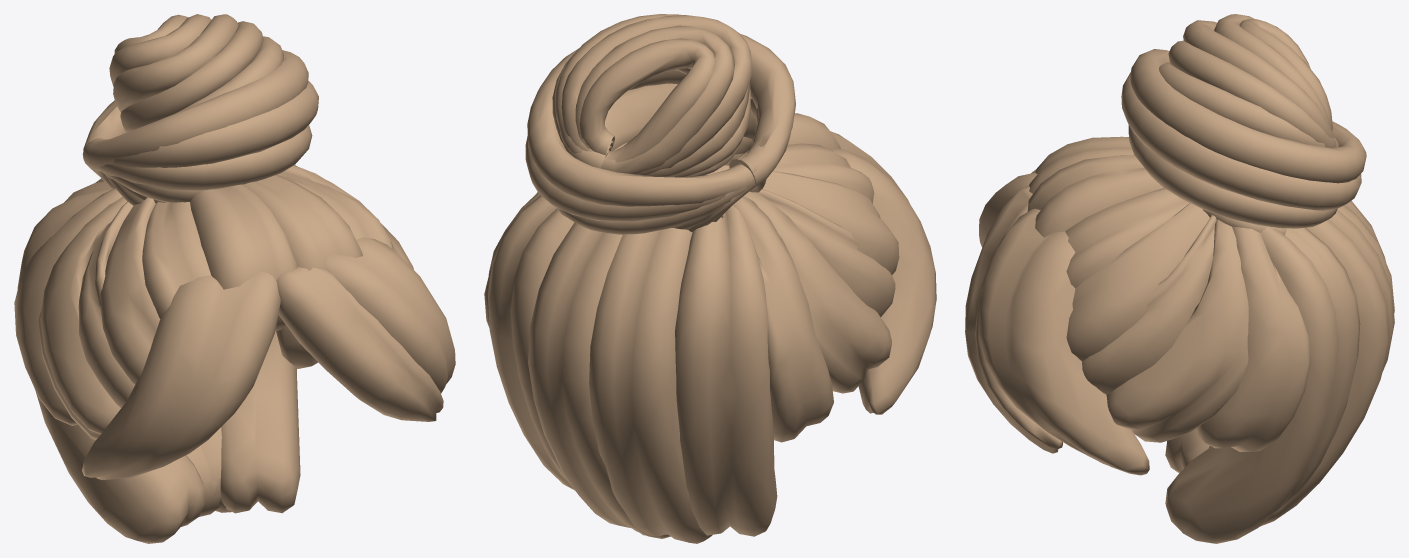
File: hair-8-69de2301.glb
The picture shows the model from 3 angles, left to right: view 1: azimuth 30°, elevation 25°; view 2: azimuth 150°, elevation 25°; view 3: azimuth 270°, elevation 25°; orthographic projection. The views are drawn at different scales.
Visible parts, largest first — view 1: Geo_White_Older_Female_Hair_8.001; view 2: Geo_White_Older_Female_Hair_8.001; view 3: Geo_White_Older_Female_Hair_8.001.
Part boxes in pixels (x1=…): Geo_White_Older_Female_Hair_8.001: x1=14, y1=14, x2=455, y2=543; Geo_White_Older_Female_Hair_8.001: x1=484, y1=14, x2=936, y2=543; Geo_White_Older_Female_Hair_8.001: x1=965, y1=14, x2=1394, y2=543.
Bounding box in the file's own units: 1.61 × 2.25 × 1.82.
